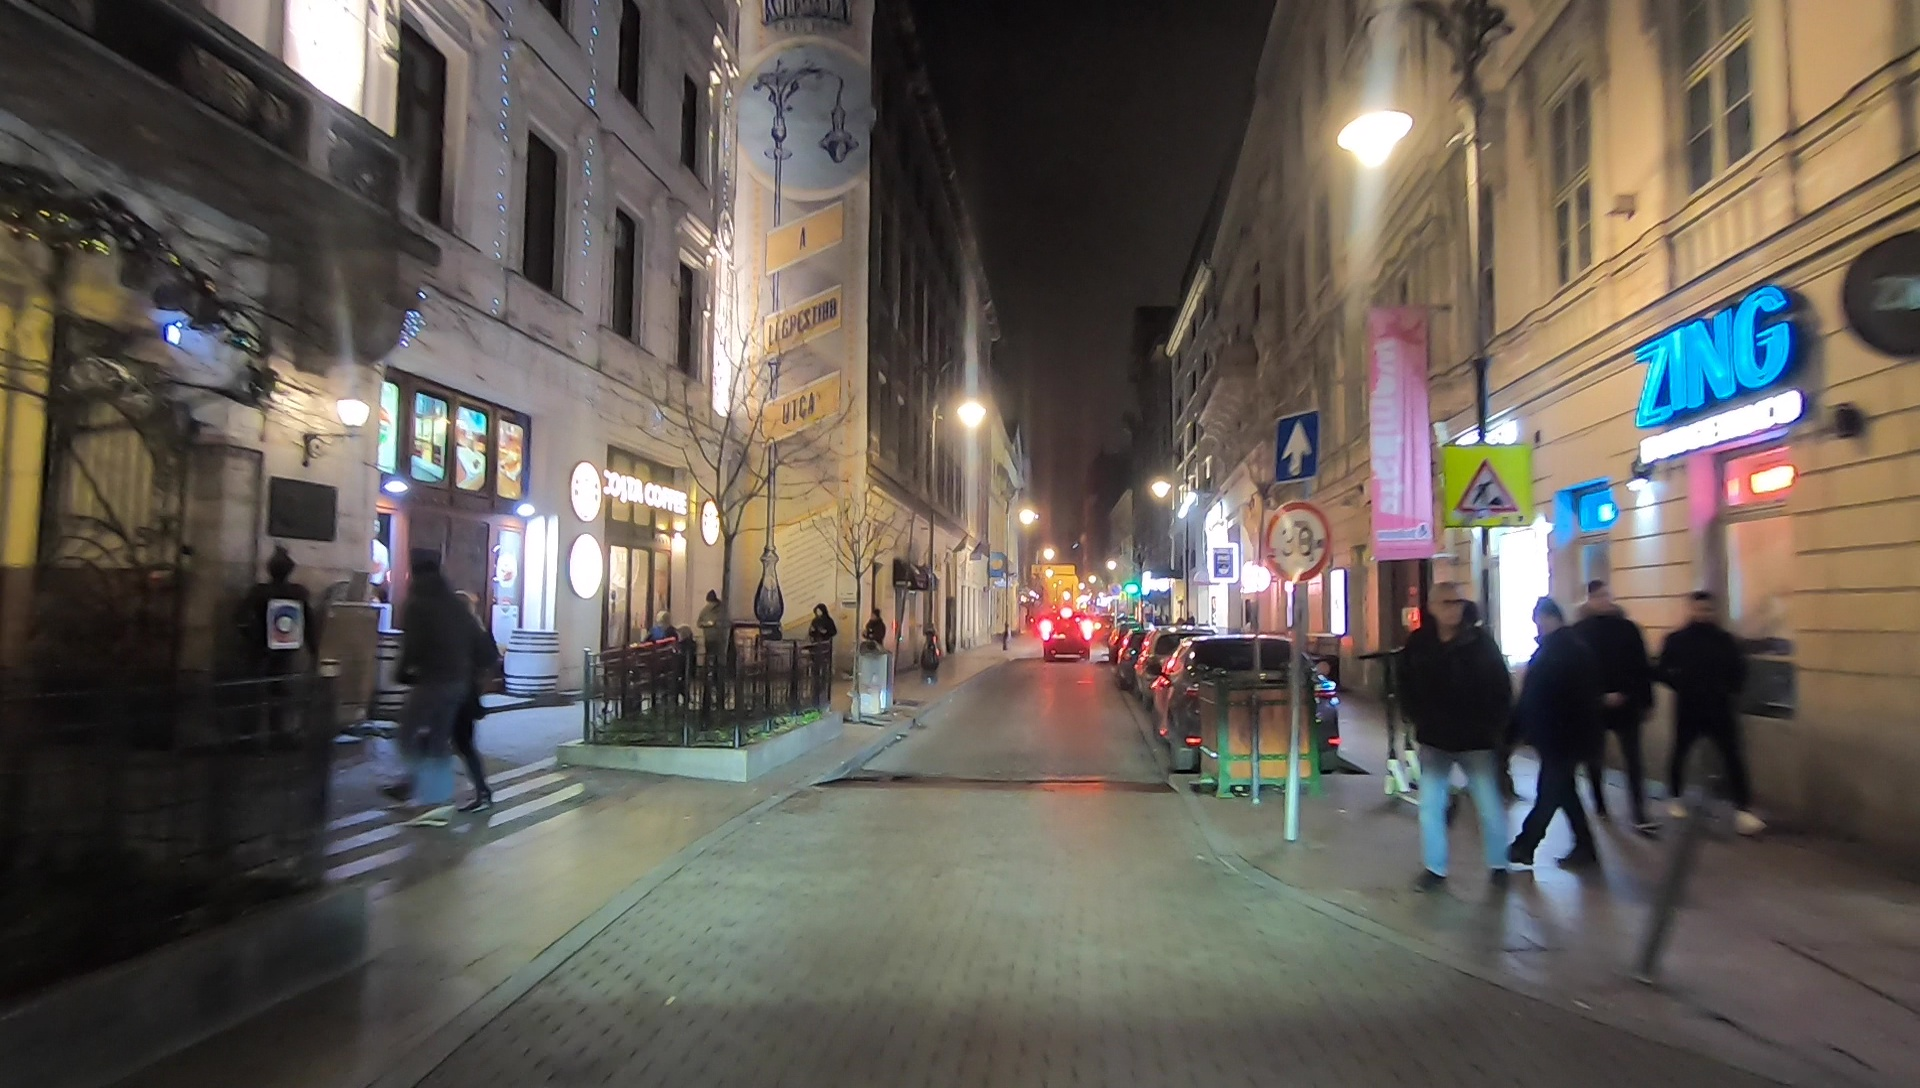person: (1402, 587, 1523, 889), (1517, 595, 1608, 878), (1667, 597, 1762, 837), (384, 554, 462, 824), (1584, 586, 1660, 832), (814, 602, 839, 680), (699, 591, 723, 671), (867, 610, 884, 674)
